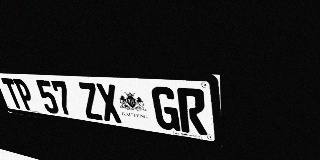5: (35, 80, 61, 114)
7: (50, 81, 76, 117)
G: (150, 86, 181, 132)
P: (12, 79, 37, 111)
R: (177, 88, 207, 135)
T: (1, 78, 24, 109)
X: (95, 83, 123, 123)
Z: (77, 82, 104, 121)
